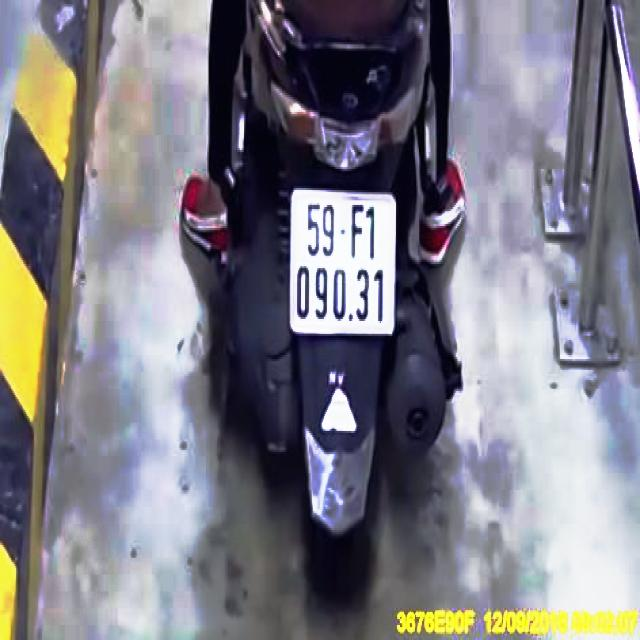license_plate: (290, 190, 396, 334)
